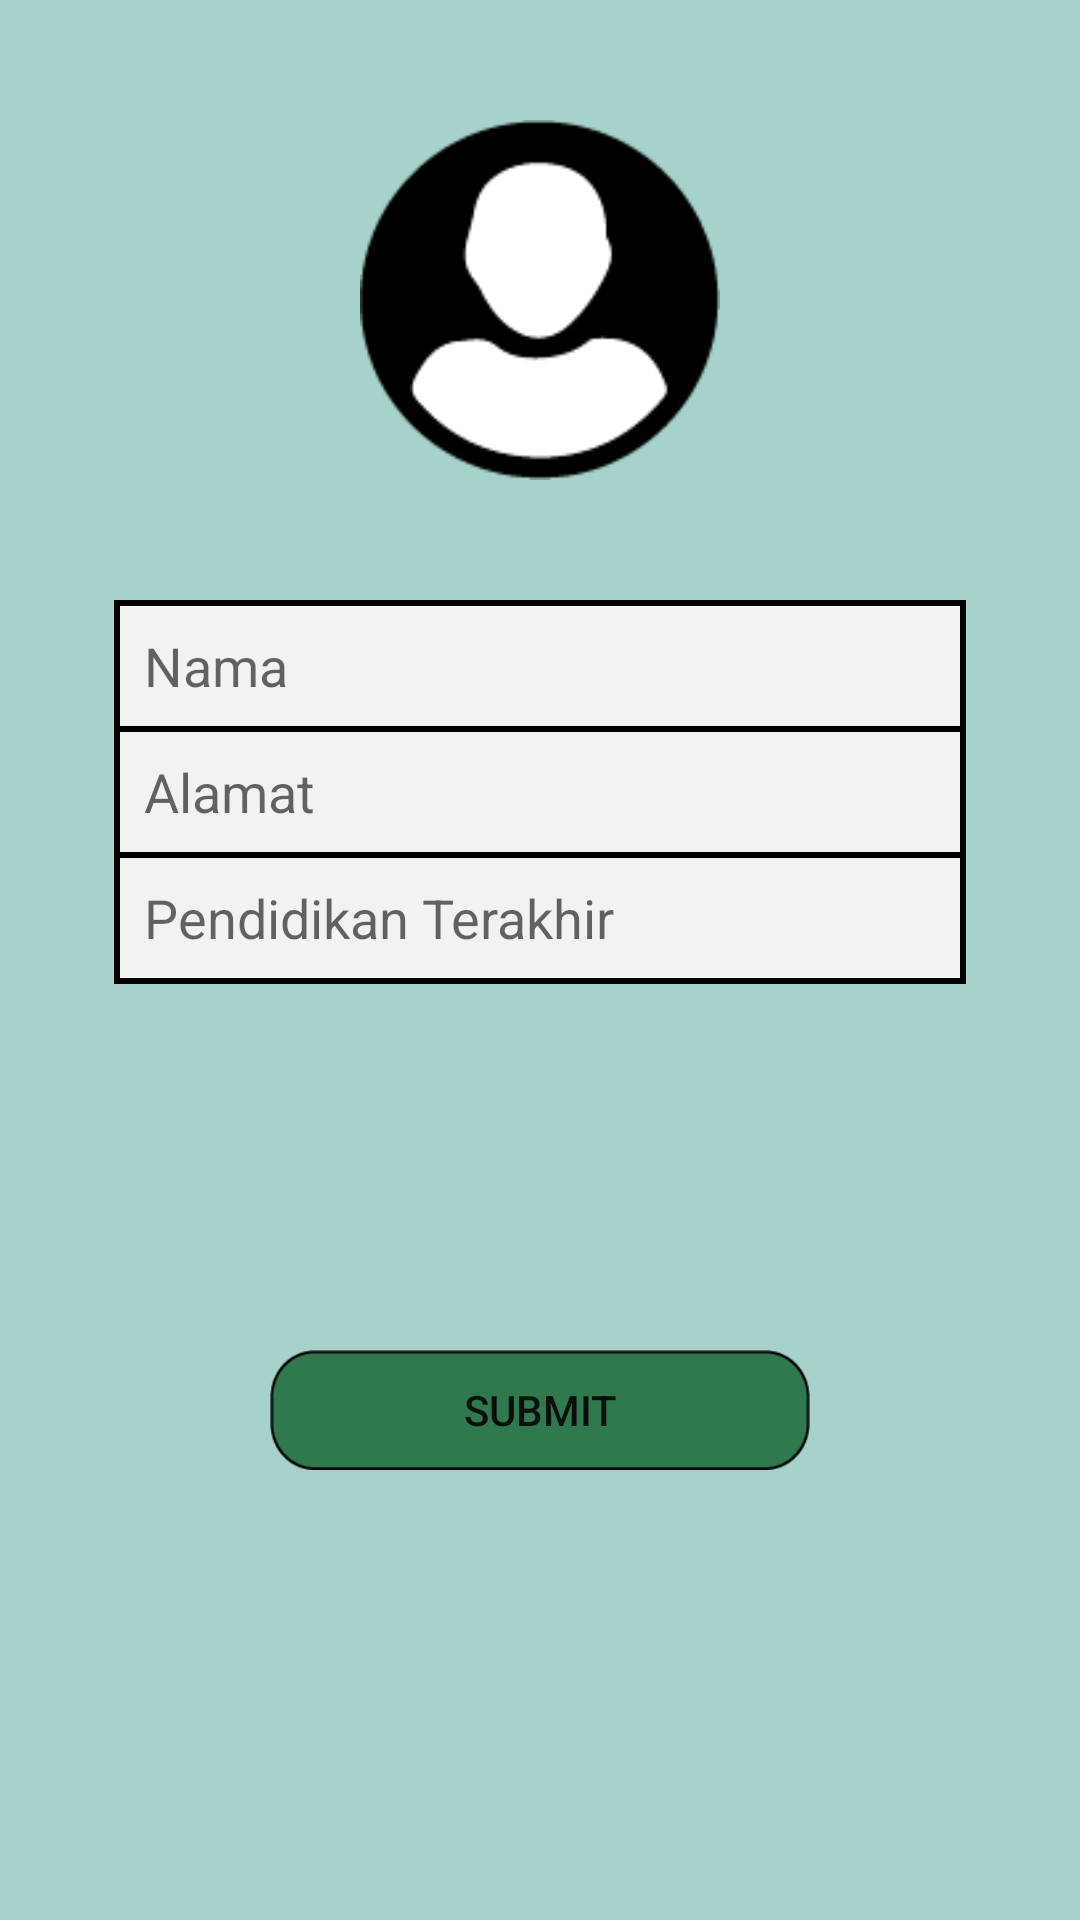

Icons on this 1080x1920 Android screen, each with its box as (x1, y1, x2, y2):
propil: (360, 120, 720, 480)
